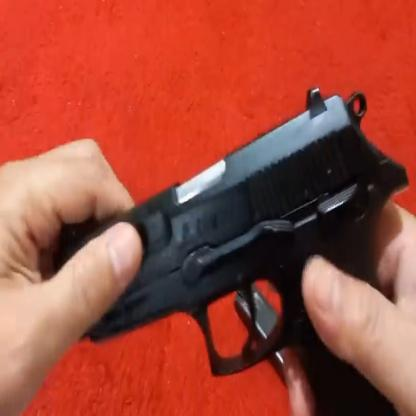handgun: (69, 70, 411, 410)
